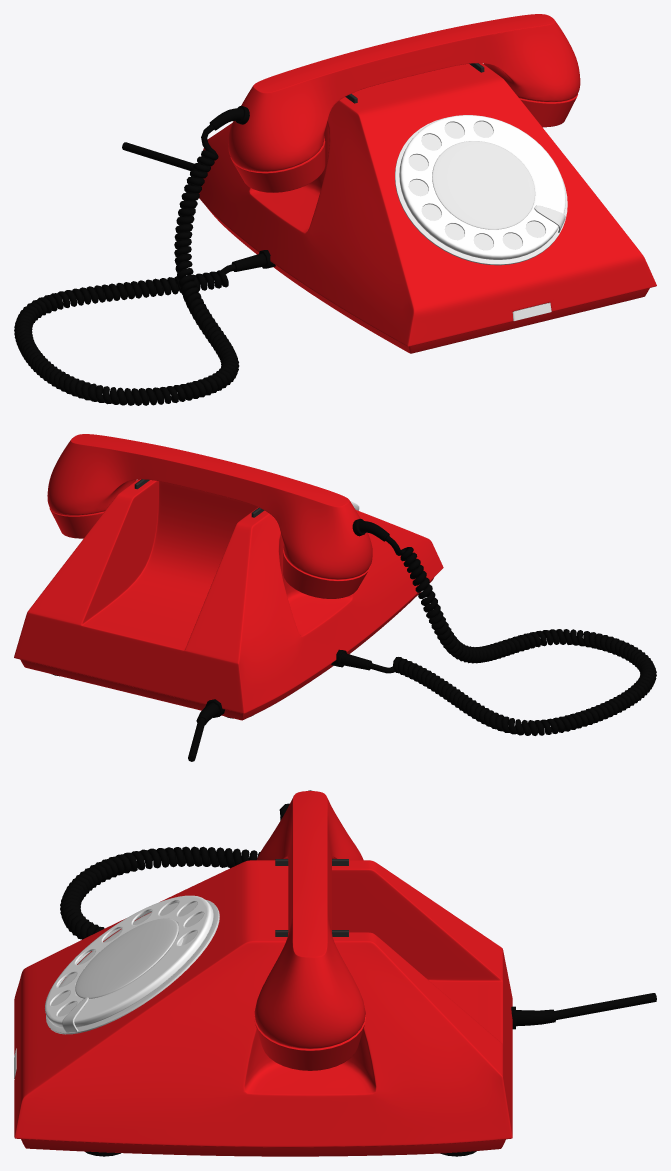
Rendered from phone_anim.glb.
3 renders of one model, top to bottom at view 1: azimuth 30°, elevation 25°; view 2: azimuth 150°, elevation 25°; view 3: azimuth 270°, elevation 25°, orthographic. The views are drawn at different scales.
Visible parts, largest first — view 1: model_3, model_3.011, model_3.006, model_3.016, model_3.014, model_3.008; view 2: model_3, model_3.011, model_3.006, model_3.007; view 3: model_3, model_3.011, model_3.016, model_3.014, model_3.006, model_3.008, model_3.009.
Part boxes in pixels (x1=…): model_3: x1=199, y1=63, x2=656, y2=353; model_3.011: x1=228, y1=14, x2=580, y2=192; model_3.006: x1=14, y1=124, x2=239, y2=405; model_3.016: x1=395, y1=118, x2=567, y2=265; model_3.014: x1=399, y1=115, x2=565, y2=259; model_3.008: x1=122, y1=142, x2=195, y2=170; model_3: x1=14, y1=479, x2=443, y2=720; model_3.011: x1=47, y1=434, x2=372, y2=598; model_3.006: x1=368, y1=535, x2=656, y2=735; model_3.007: x1=331, y1=649, x2=371, y2=670; model_3: x1=14, y1=860, x2=512, y2=1156; model_3.011: x1=254, y1=791, x2=365, y2=1070; model_3.016: x1=46, y1=900, x2=219, y2=1034; model_3.014: x1=45, y1=895, x2=213, y2=1027; model_3.006: x1=60, y1=803, x2=289, y2=939; model_3.008: x1=554, y1=993, x2=656, y2=1019; model_3.009: x1=511, y1=1006, x2=556, y2=1029.
Bounding box in the file's own units: 3.46 × 1.14 × 2.87.
